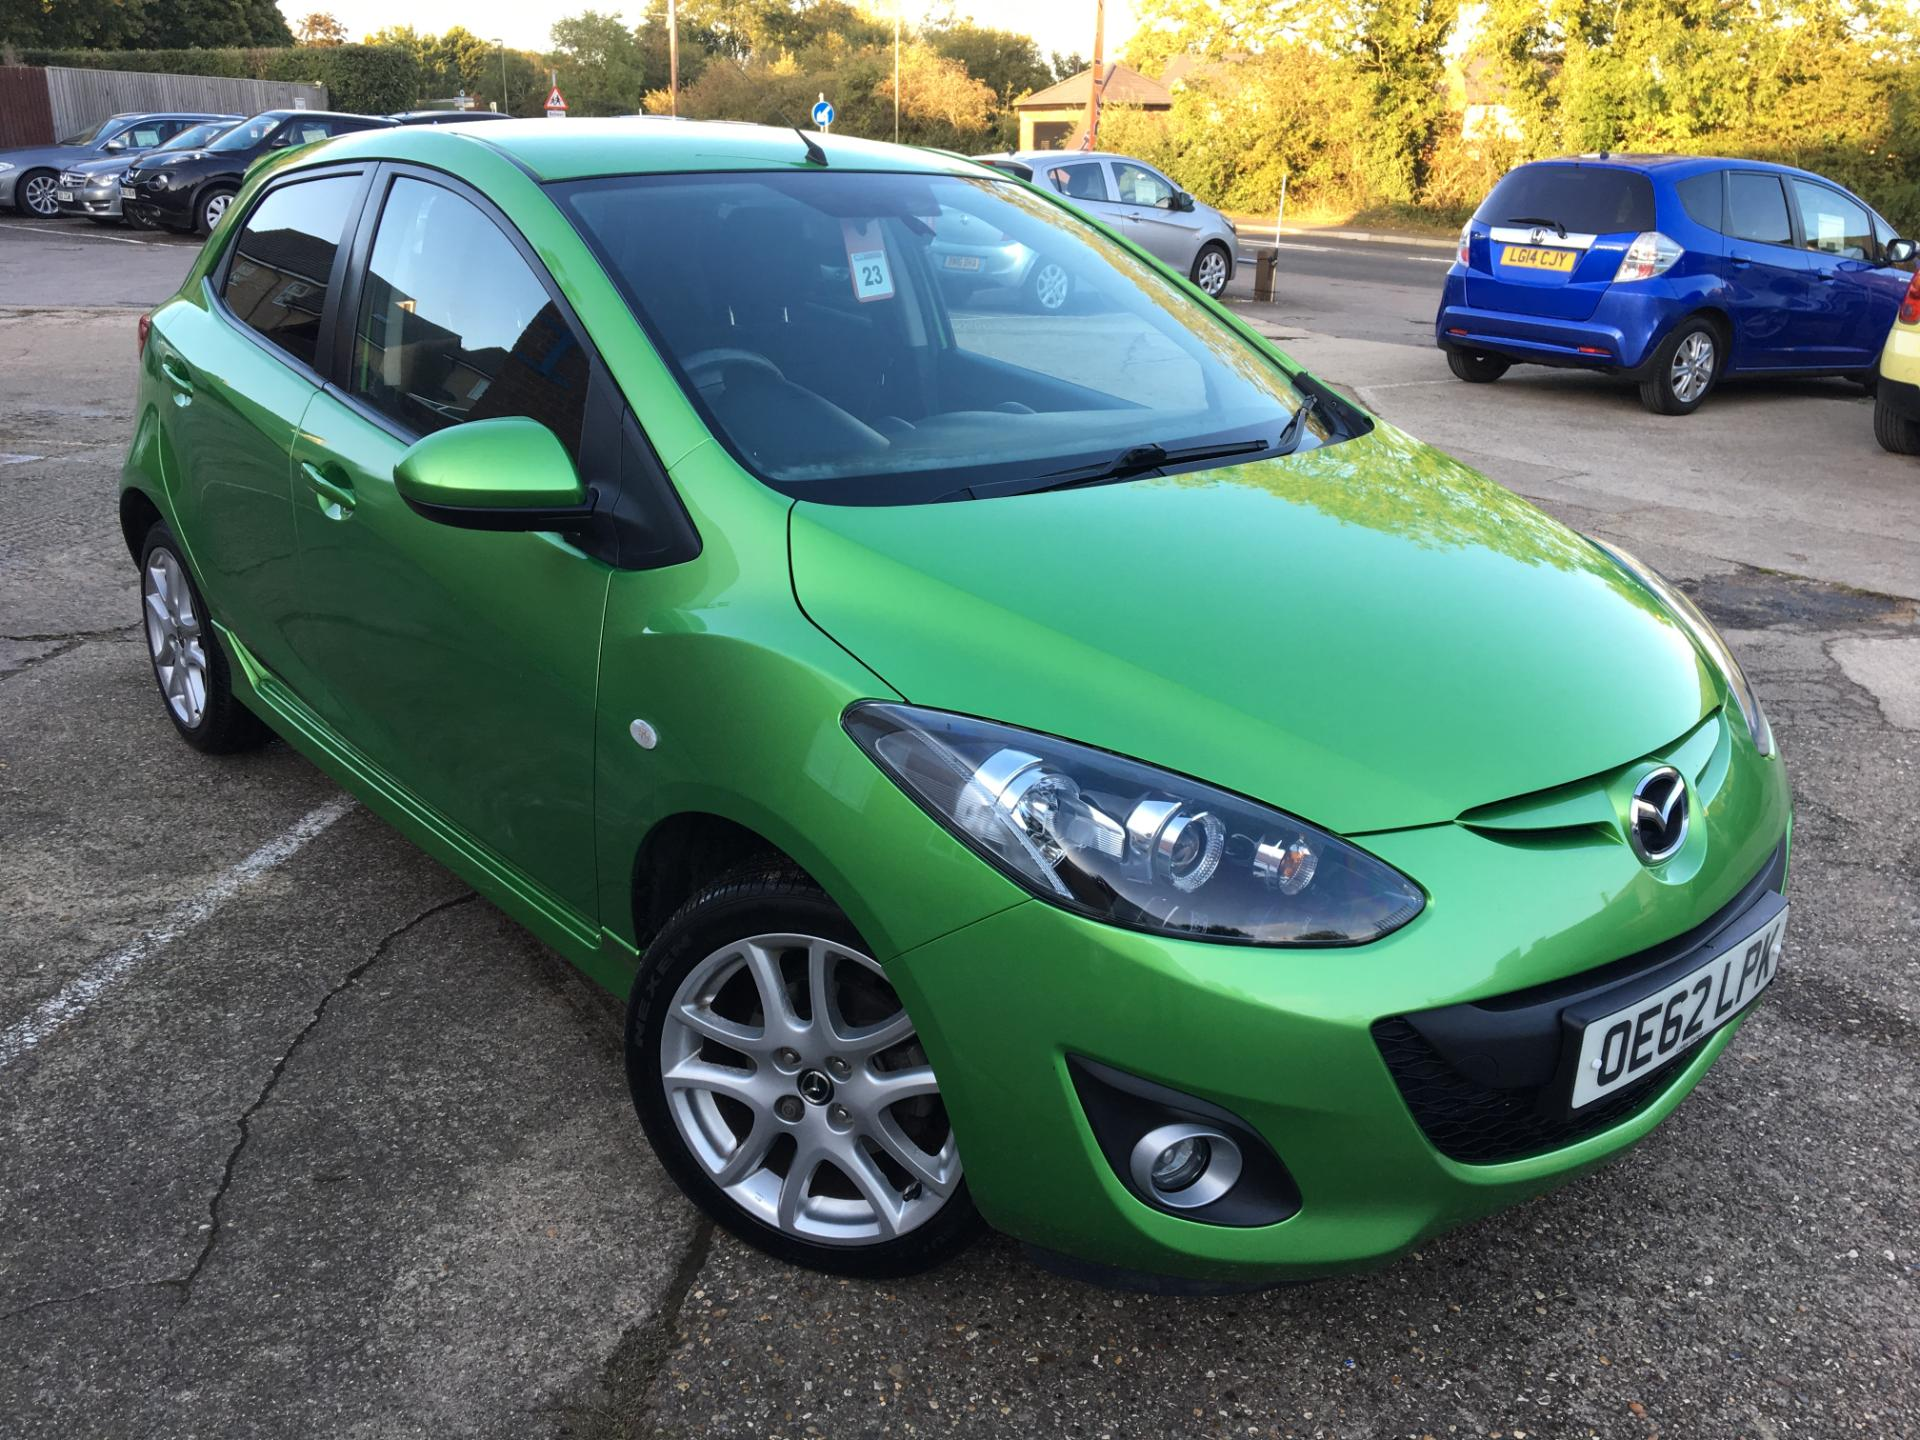Mazda3 Hatchback: (107, 103, 1810, 1308)
